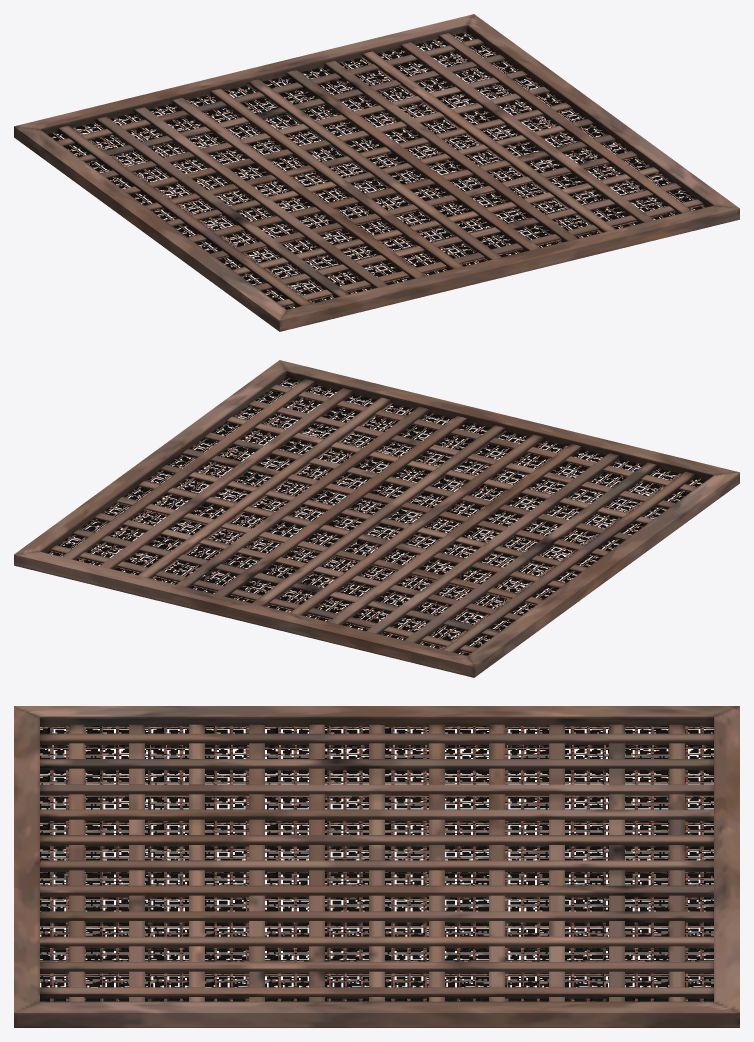
File: sewerGrateFloor.fbx
3 views of the same model, one above another, from view 1: azimuth 30°, elevation 25°; view 2: azimuth 150°, elevation 25°; view 3: azimuth 270°, elevation 25° (orthographic). The views are drawn at different scales.
Parts seen in each view (by area): view 1: sewerGrateFloor (×2); view 2: sewerGrateFloor (×2); view 3: sewerGrateFloor (×2).
Part boxes in pixels (left/top/right/bottom): sewerGrateFloor (×2): left=14, top=14, right=739, bottom=331; sewerGrateFloor (×2): left=14, top=360, right=739, bottom=677; sewerGrateFloor (×2): left=14, top=706, right=739, bottom=1027.
Size of the model in its own units: 300 by 6.91 by 300.
Materials: 2 (2 with a texture image).
